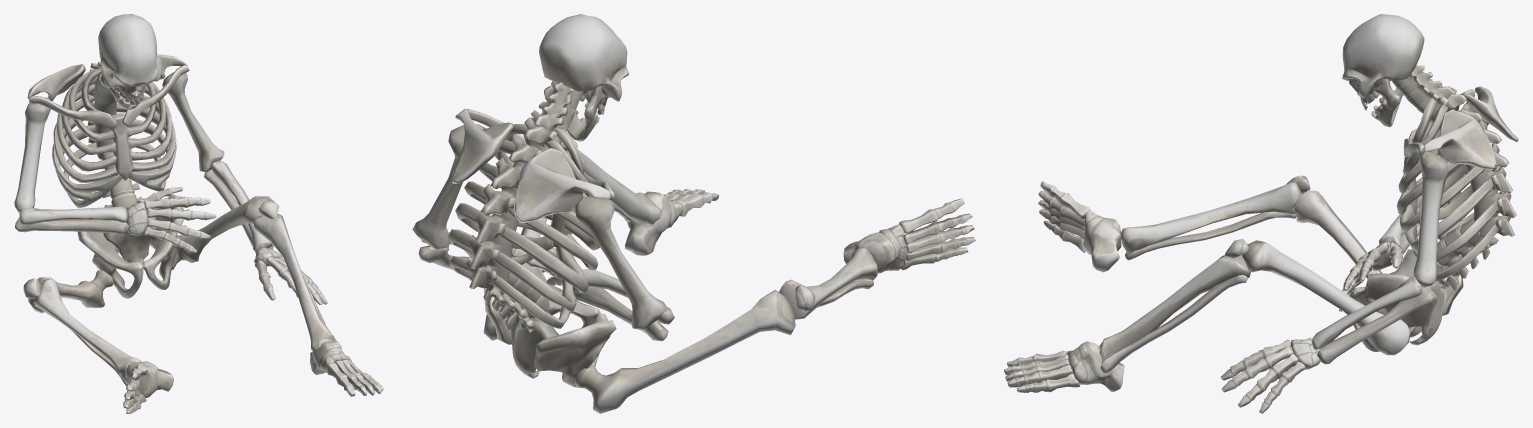
The picture shows the model from 3 angles, left to right: view 1: azimuth 30°, elevation 25°; view 2: azimuth 150°, elevation 25°; view 3: azimuth 270°, elevation 25°; orthographic projection. The views are drawn at different scales.
Parts seen in each view (by area): view 1: SM_FullBody_02_LOD0; view 2: SM_FullBody_02_LOD0; view 3: SM_FullBody_02_LOD0.
Boxes of the visible parts, box(x1,y1,x2,y2) form: SM_FullBody_02_LOD0: box(14, 14, 383, 413); SM_FullBody_02_LOD0: box(412, 14, 975, 413); SM_FullBody_02_LOD0: box(1004, 14, 1518, 413).
Bounding box in the file's own units: 0.9109 × 0.8567 × 1.19.
1 material, 1 textured.
